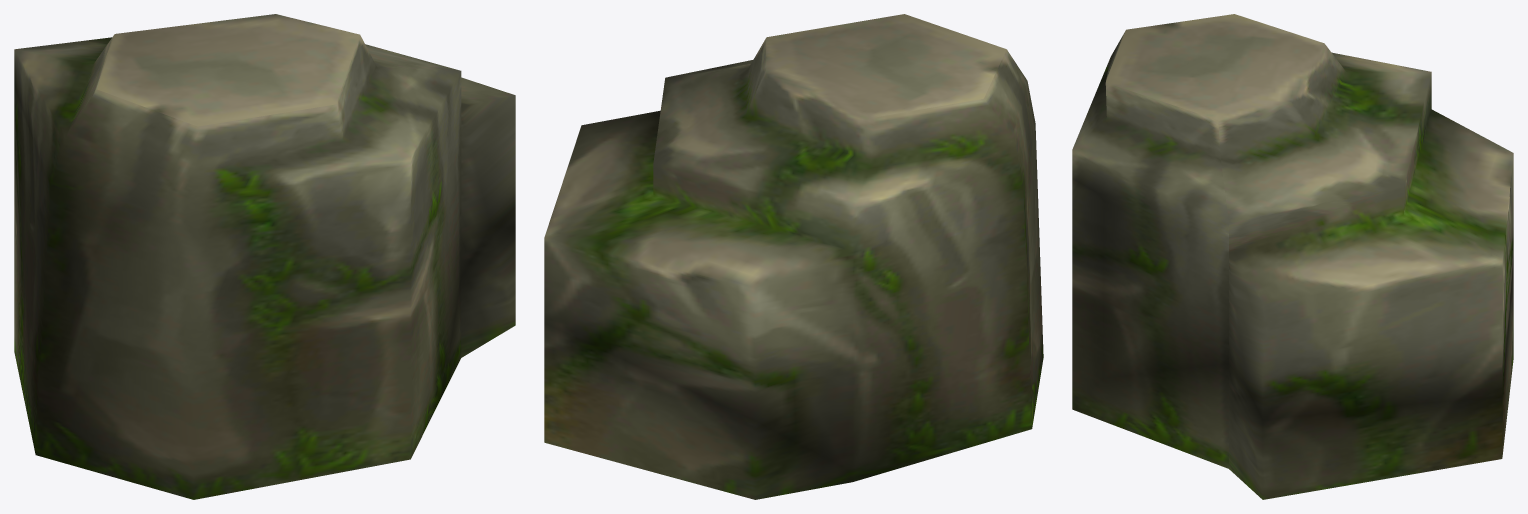
Rendered from RockFormation_4_5 (26).fbx.
The picture shows the model from 3 angles, left to right: view 1: azimuth 30°, elevation 25°; view 2: azimuth 150°, elevation 25°; view 3: azimuth 270°, elevation 25°; orthographic projection. The views are drawn at different scales.
Visible parts, largest first — view 1: RockFormation_4_5 (26); view 2: RockFormation_4_5 (26); view 3: RockFormation_4_5 (26).
Boxes of the visible parts, box(x1,y1,x2,y2) form: RockFormation_4_5 (26): box(14, 14, 515, 499); RockFormation_4_5 (26): box(544, 14, 1043, 499); RockFormation_4_5 (26): box(1072, 14, 1513, 499).
Size of the model in its own units: 2473 by 1698 by 2237.
